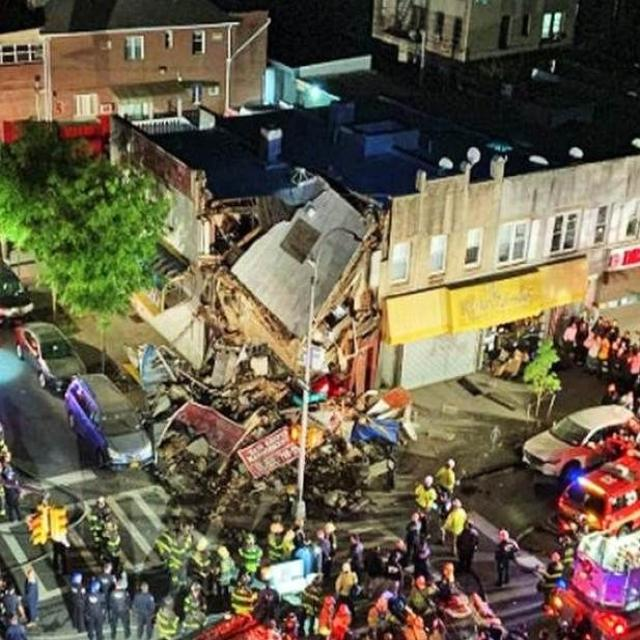collapsed_building: (130, 116, 410, 451)
